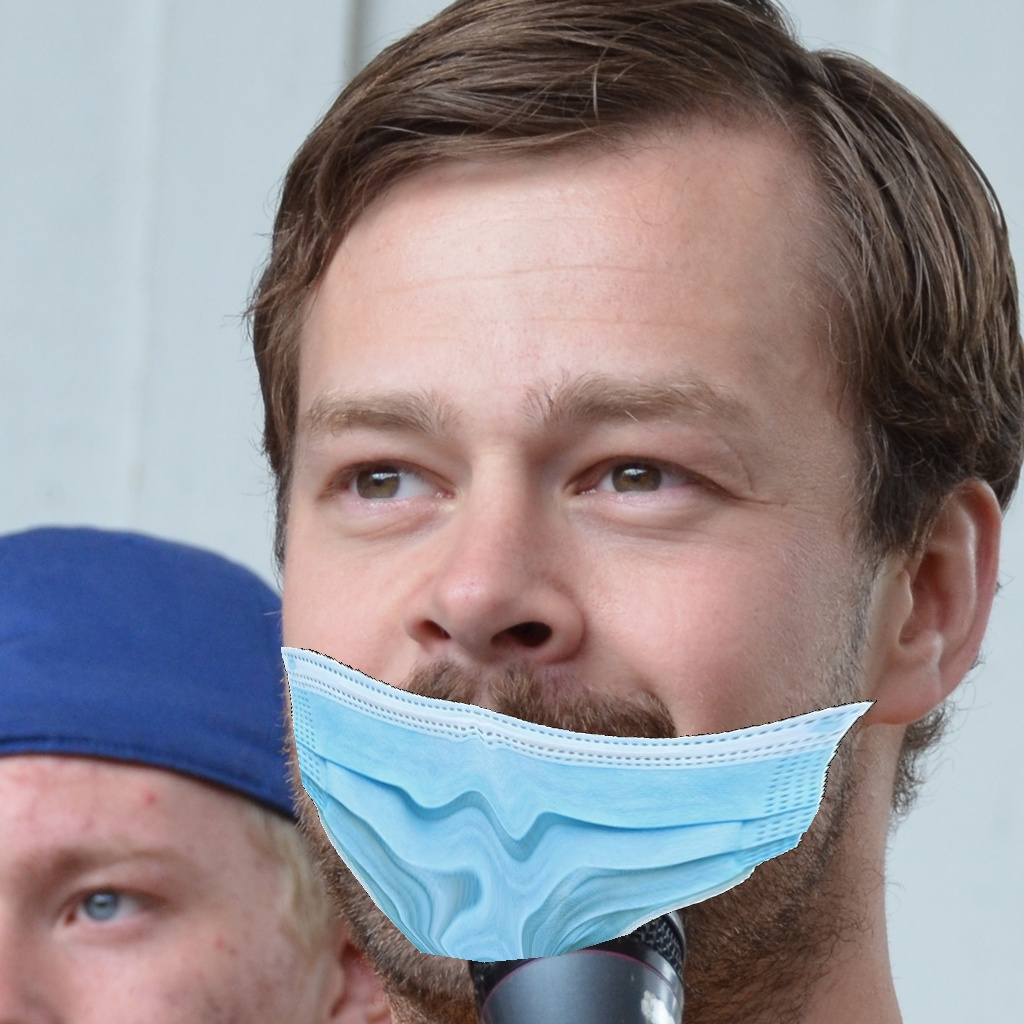mascarilla_mal_puesta: (258, 423, 906, 1005)
